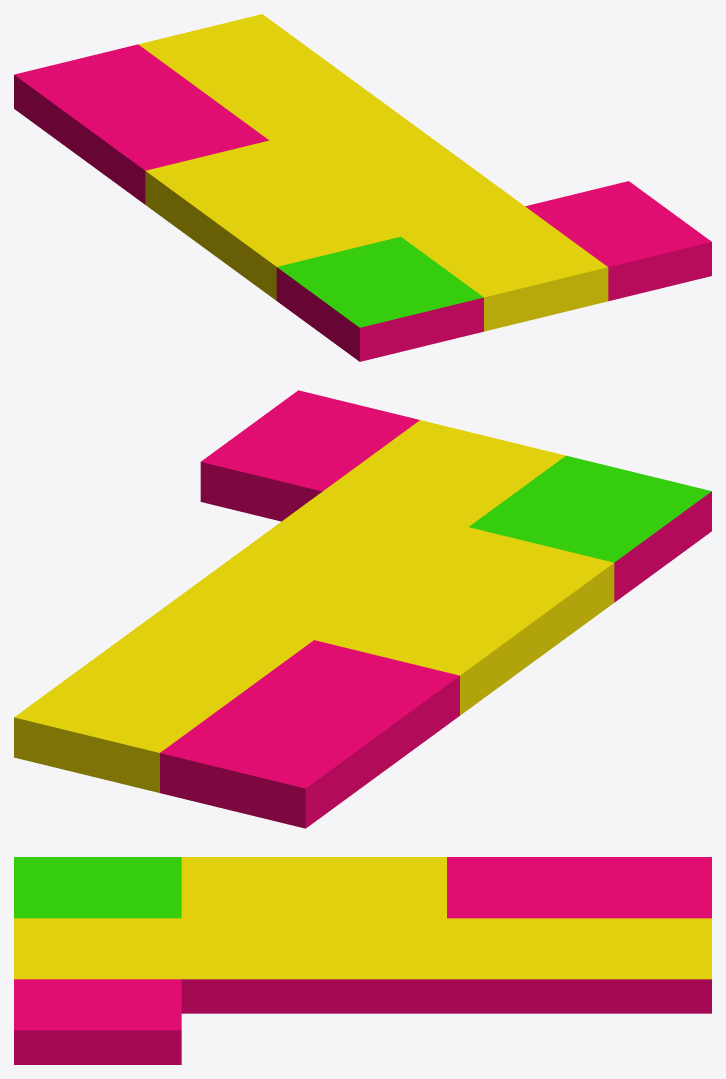
The model's file is checker.fbx.
The picture shows the model from 3 angles, top to bottom: view 1: azimuth 30°, elevation 25°; view 2: azimuth 150°, elevation 25°; view 3: azimuth 270°, elevation 25°; orthographic projection. The views are drawn at different scales.
Parts seen in each view (by area): view 1: Cube; view 2: Cube; view 3: Cube.
Boxes of the visible parts, left/top/right/bottom form: Cube: left=14, top=14, right=711, bottom=361; Cube: left=14, top=390, right=711, bottom=828; Cube: left=14, top=857, right=711, bottom=1064.
Size of the model in its own units: 284 by 26.26 by 482.
